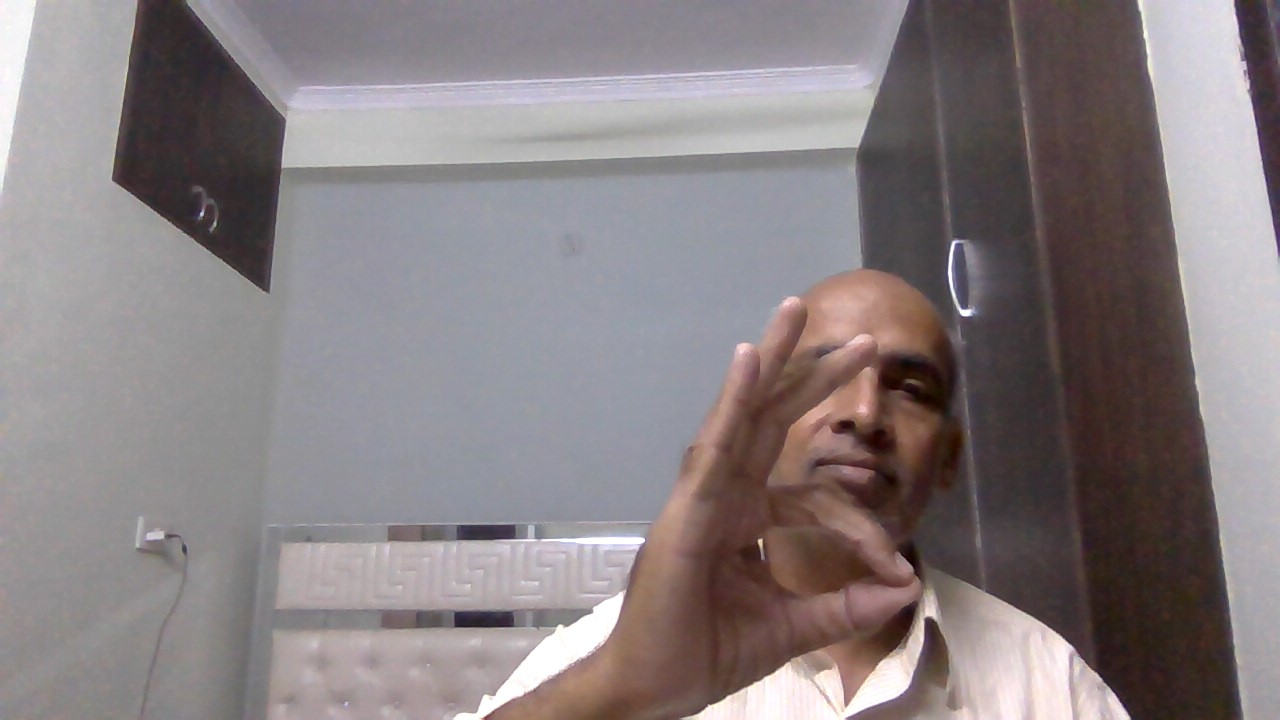Copy: (601, 280, 940, 713)
